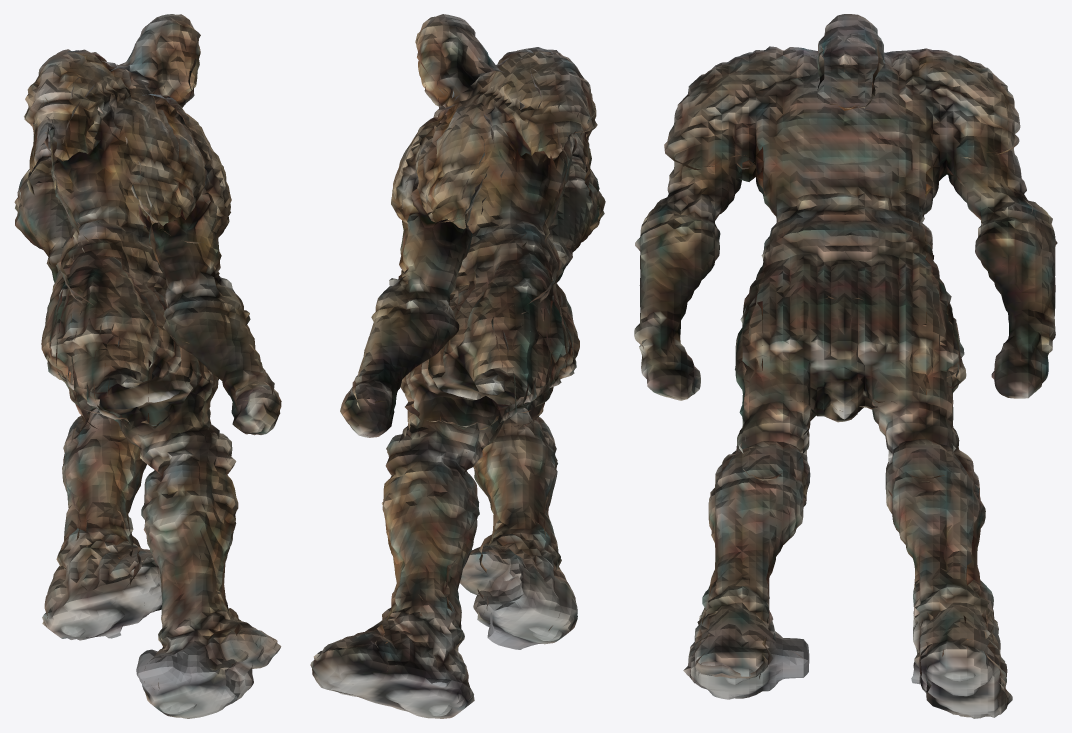
File: talos_spartan_automaton.glb
The picture shows the model from 3 angles, left to right: view 1: azimuth 30°, elevation 25°; view 2: azimuth 150°, elevation 25°; view 3: azimuth 270°, elevation 25°; orthographic projection. The views are drawn at different scales.
Visible parts, largest first — view 1: talos_spartan_automaton.obj; view 2: talos_spartan_automaton.obj; view 3: talos_spartan_automaton.obj.
Part boxes in pixels (x1,y1,x2,y2): talos_spartan_automaton.obj: (14,14,281,718); talos_spartan_automaton.obj: (310,14,605,718); talos_spartan_automaton.obj: (634,14,1057,718).
Bounding box in the file's own units: 0.2867 × 1.01 × 0.5663.
